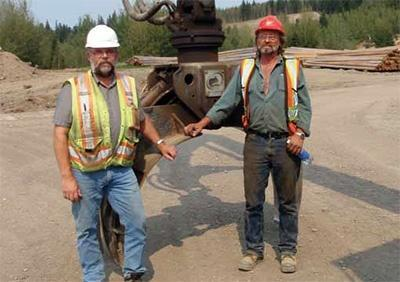helmet: (84, 23, 123, 59), (253, 13, 286, 40)
person: (52, 24, 156, 282), (228, 12, 316, 280)
vest: (74, 77, 139, 173)
